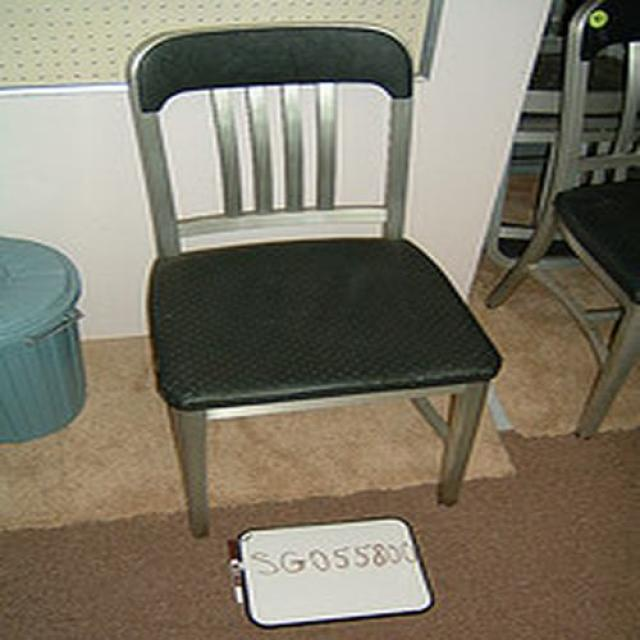chair: (124, 24, 503, 540)
